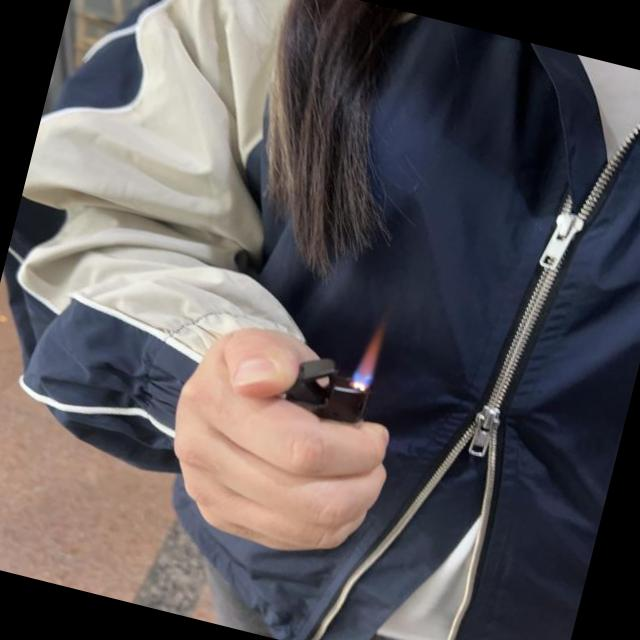Fire: (348, 316, 390, 393)
